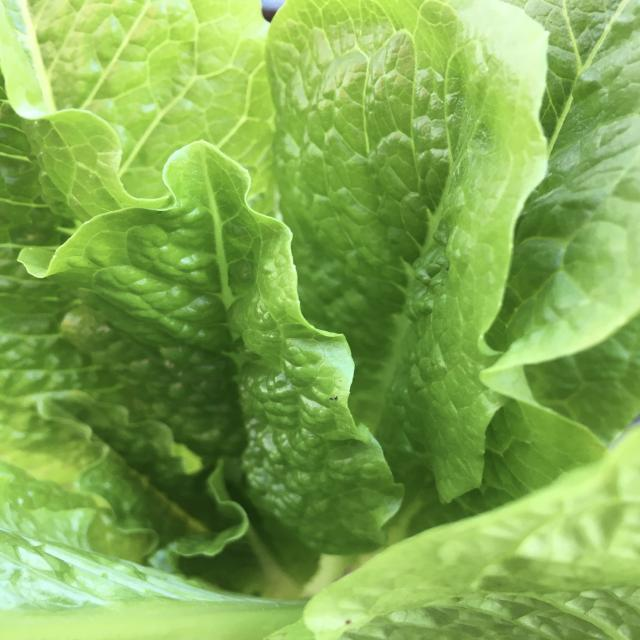Healthy Lettuce: (4, 2, 636, 634), (18, 137, 401, 581)
